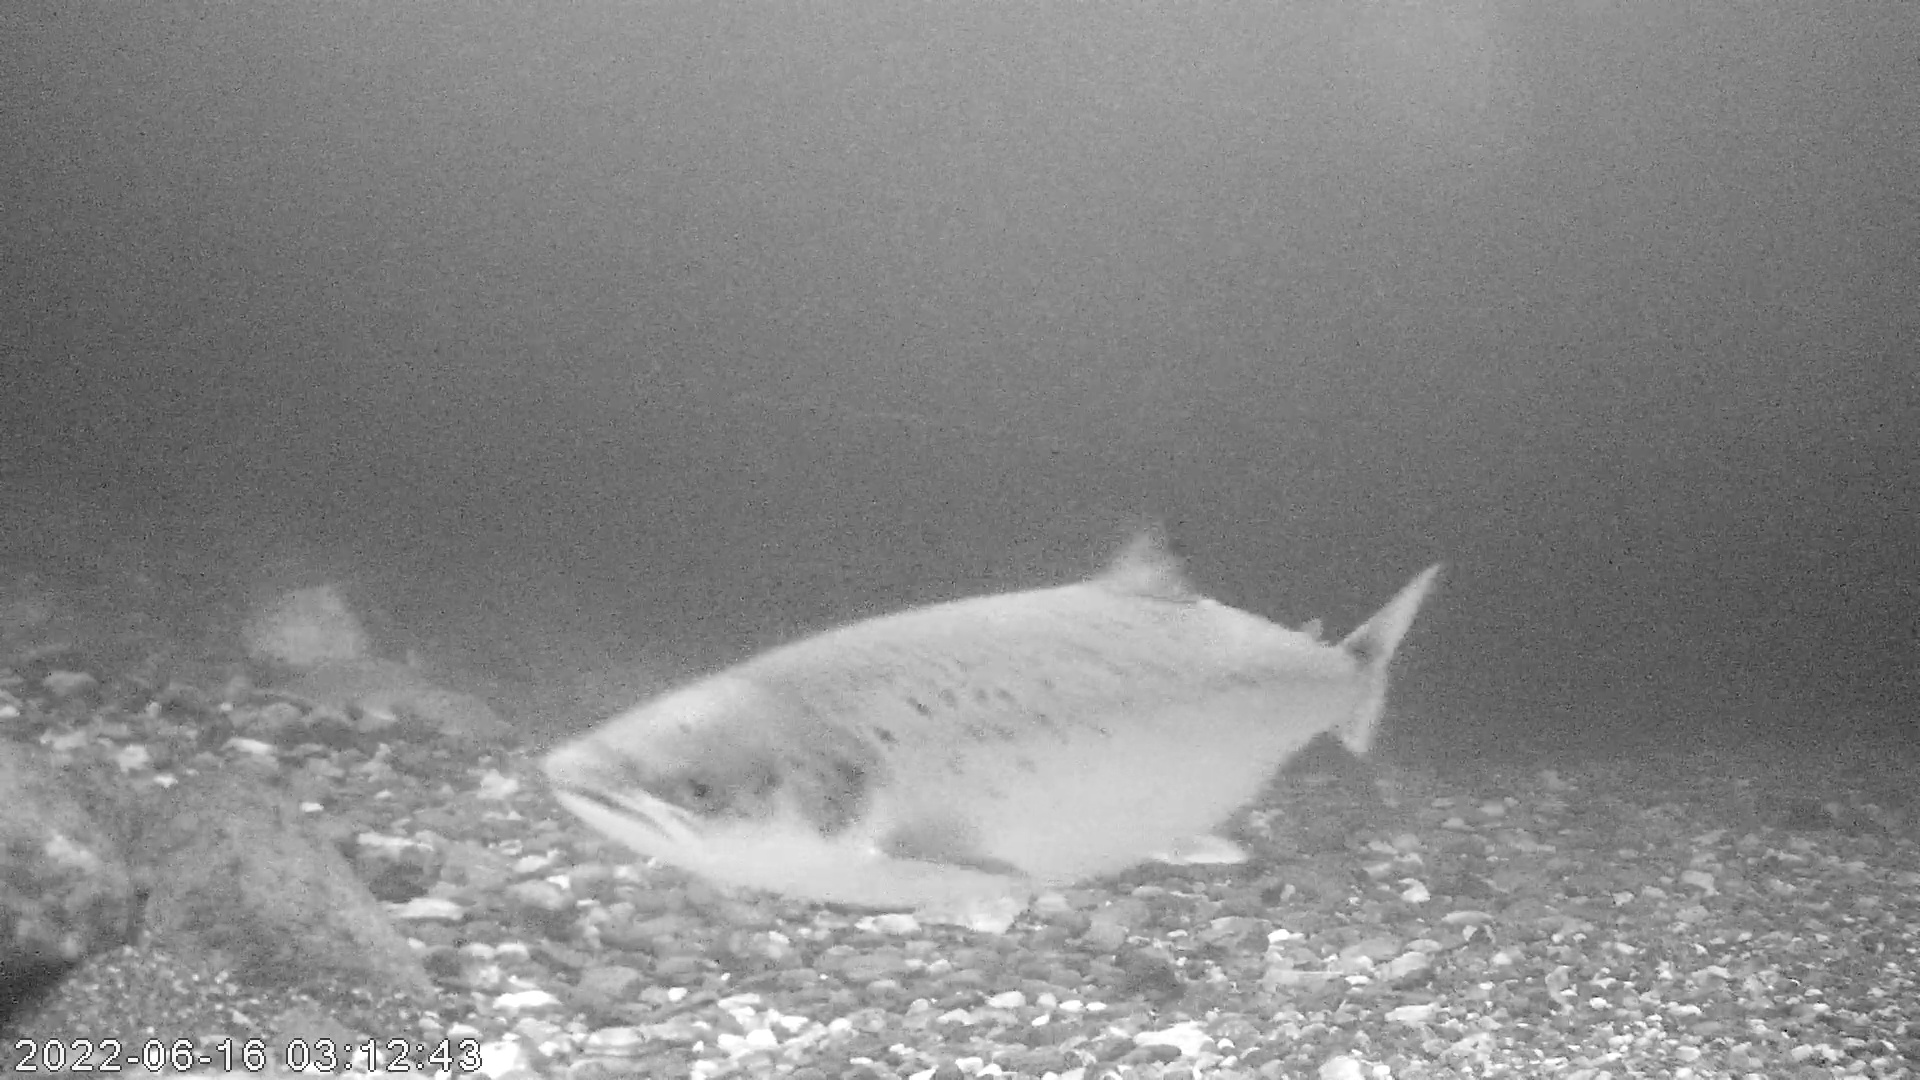salmon: (535, 522, 1447, 916)
